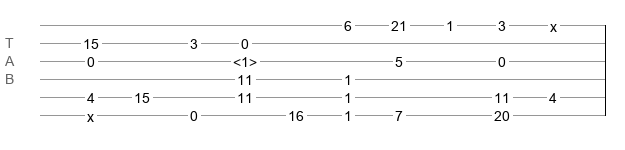0: (87, 54, 95, 64), (190, 108, 198, 118), (241, 36, 249, 46), (498, 54, 506, 64)
1: (344, 90, 352, 100), (344, 108, 352, 118), (344, 72, 352, 82), (446, 18, 454, 28)
11: (237, 90, 253, 100), (237, 72, 253, 82), (494, 90, 510, 100)
15: (83, 36, 99, 46), (134, 90, 150, 100)
16: (288, 108, 304, 118)
20: (494, 108, 510, 118)
21: (391, 18, 407, 28)
3: (190, 36, 198, 46), (498, 18, 506, 28)
4: (87, 90, 95, 100), (549, 90, 557, 100)
5: (395, 54, 403, 64)
6: (344, 18, 352, 28)
7: (395, 108, 403, 118)
harmonic: (233, 54, 257, 64)
x: (87, 109, 94, 117), (550, 19, 557, 27)
